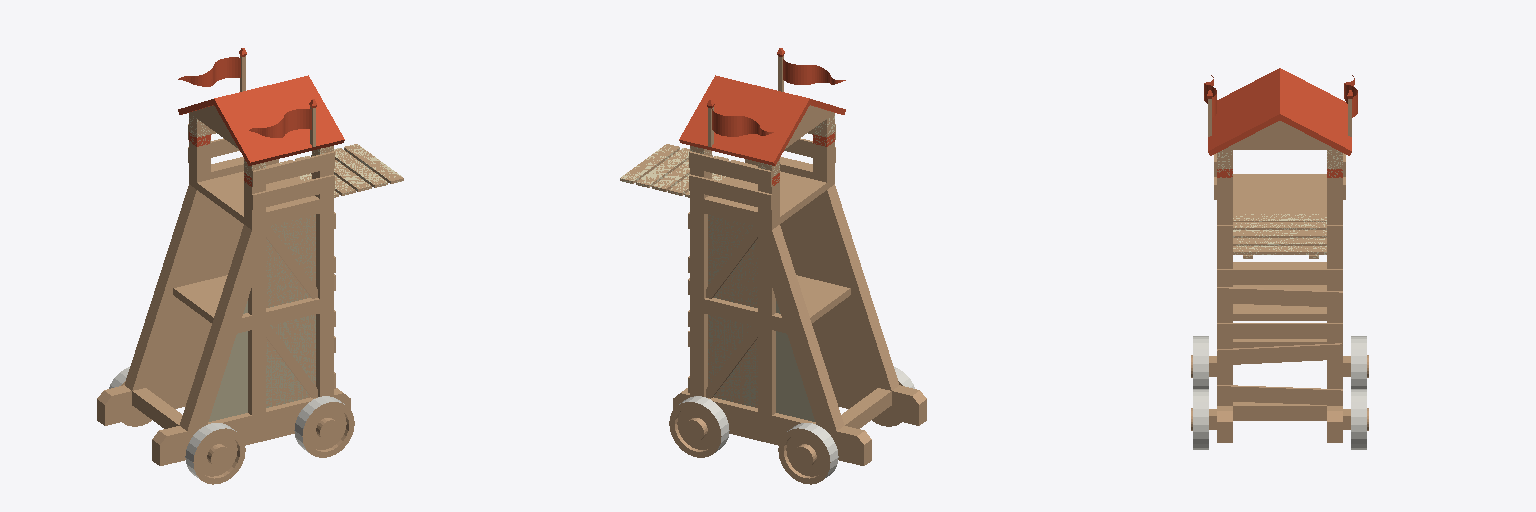
The model's file is siegeTowerRed.obj.
3 views of the same model, side by side, from view 1: azimuth 30°, elevation 25°; view 2: azimuth 150°, elevation 25°; view 3: azimuth 270°, elevation 25° (orthographic).
Visible parts, largest first — view 1: body 8, wheelBackRight 10, wheelFrontRight 13, bridge 4, flag 25, flag 24; view 2: body 8, wheelBackLeft 10, wheelFrontLeft 13, bridge 4, flag 24, flag 25; view 3: body 8, bridge 4, wheelFrontLeft 13, wheelFrontRight 13, wheelBackLeft 10, wheelBackRight 10.
Part boxes in pixels (bbox=[...]): body 8: bbox=[97, 75, 350, 465]; wheelBackRight 10: bbox=[185, 423, 245, 484]; wheelFrontRight 13: bbox=[294, 396, 354, 457]; bridge 4: bbox=[280, 144, 403, 197]; flag 25: bbox=[249, 99, 316, 146]; flag 24: bbox=[178, 48, 246, 91]; body 8: bbox=[673, 75, 926, 465]; wheelBackLeft 10: bbox=[778, 423, 838, 484]; wheelFrontLeft 13: bbox=[669, 396, 729, 457]; bridge 4: bbox=[620, 144, 743, 197]; flag 24: bbox=[707, 99, 773, 146]; flag 25: bbox=[777, 48, 845, 91]; body 8: bbox=[1208, 68, 1351, 442]; bridge 4: bbox=[1233, 214, 1326, 258]; wheelFrontLeft 13: bbox=[1351, 389, 1368, 449]; wheelFrontRight 13: bbox=[1191, 389, 1208, 449]; wheelBackLeft 10: bbox=[1351, 336, 1368, 388]; wheelBackRight 10: bbox=[1191, 336, 1208, 388].
Bounding box in the file's own units: 19.62 × 25.98 × 11.91.